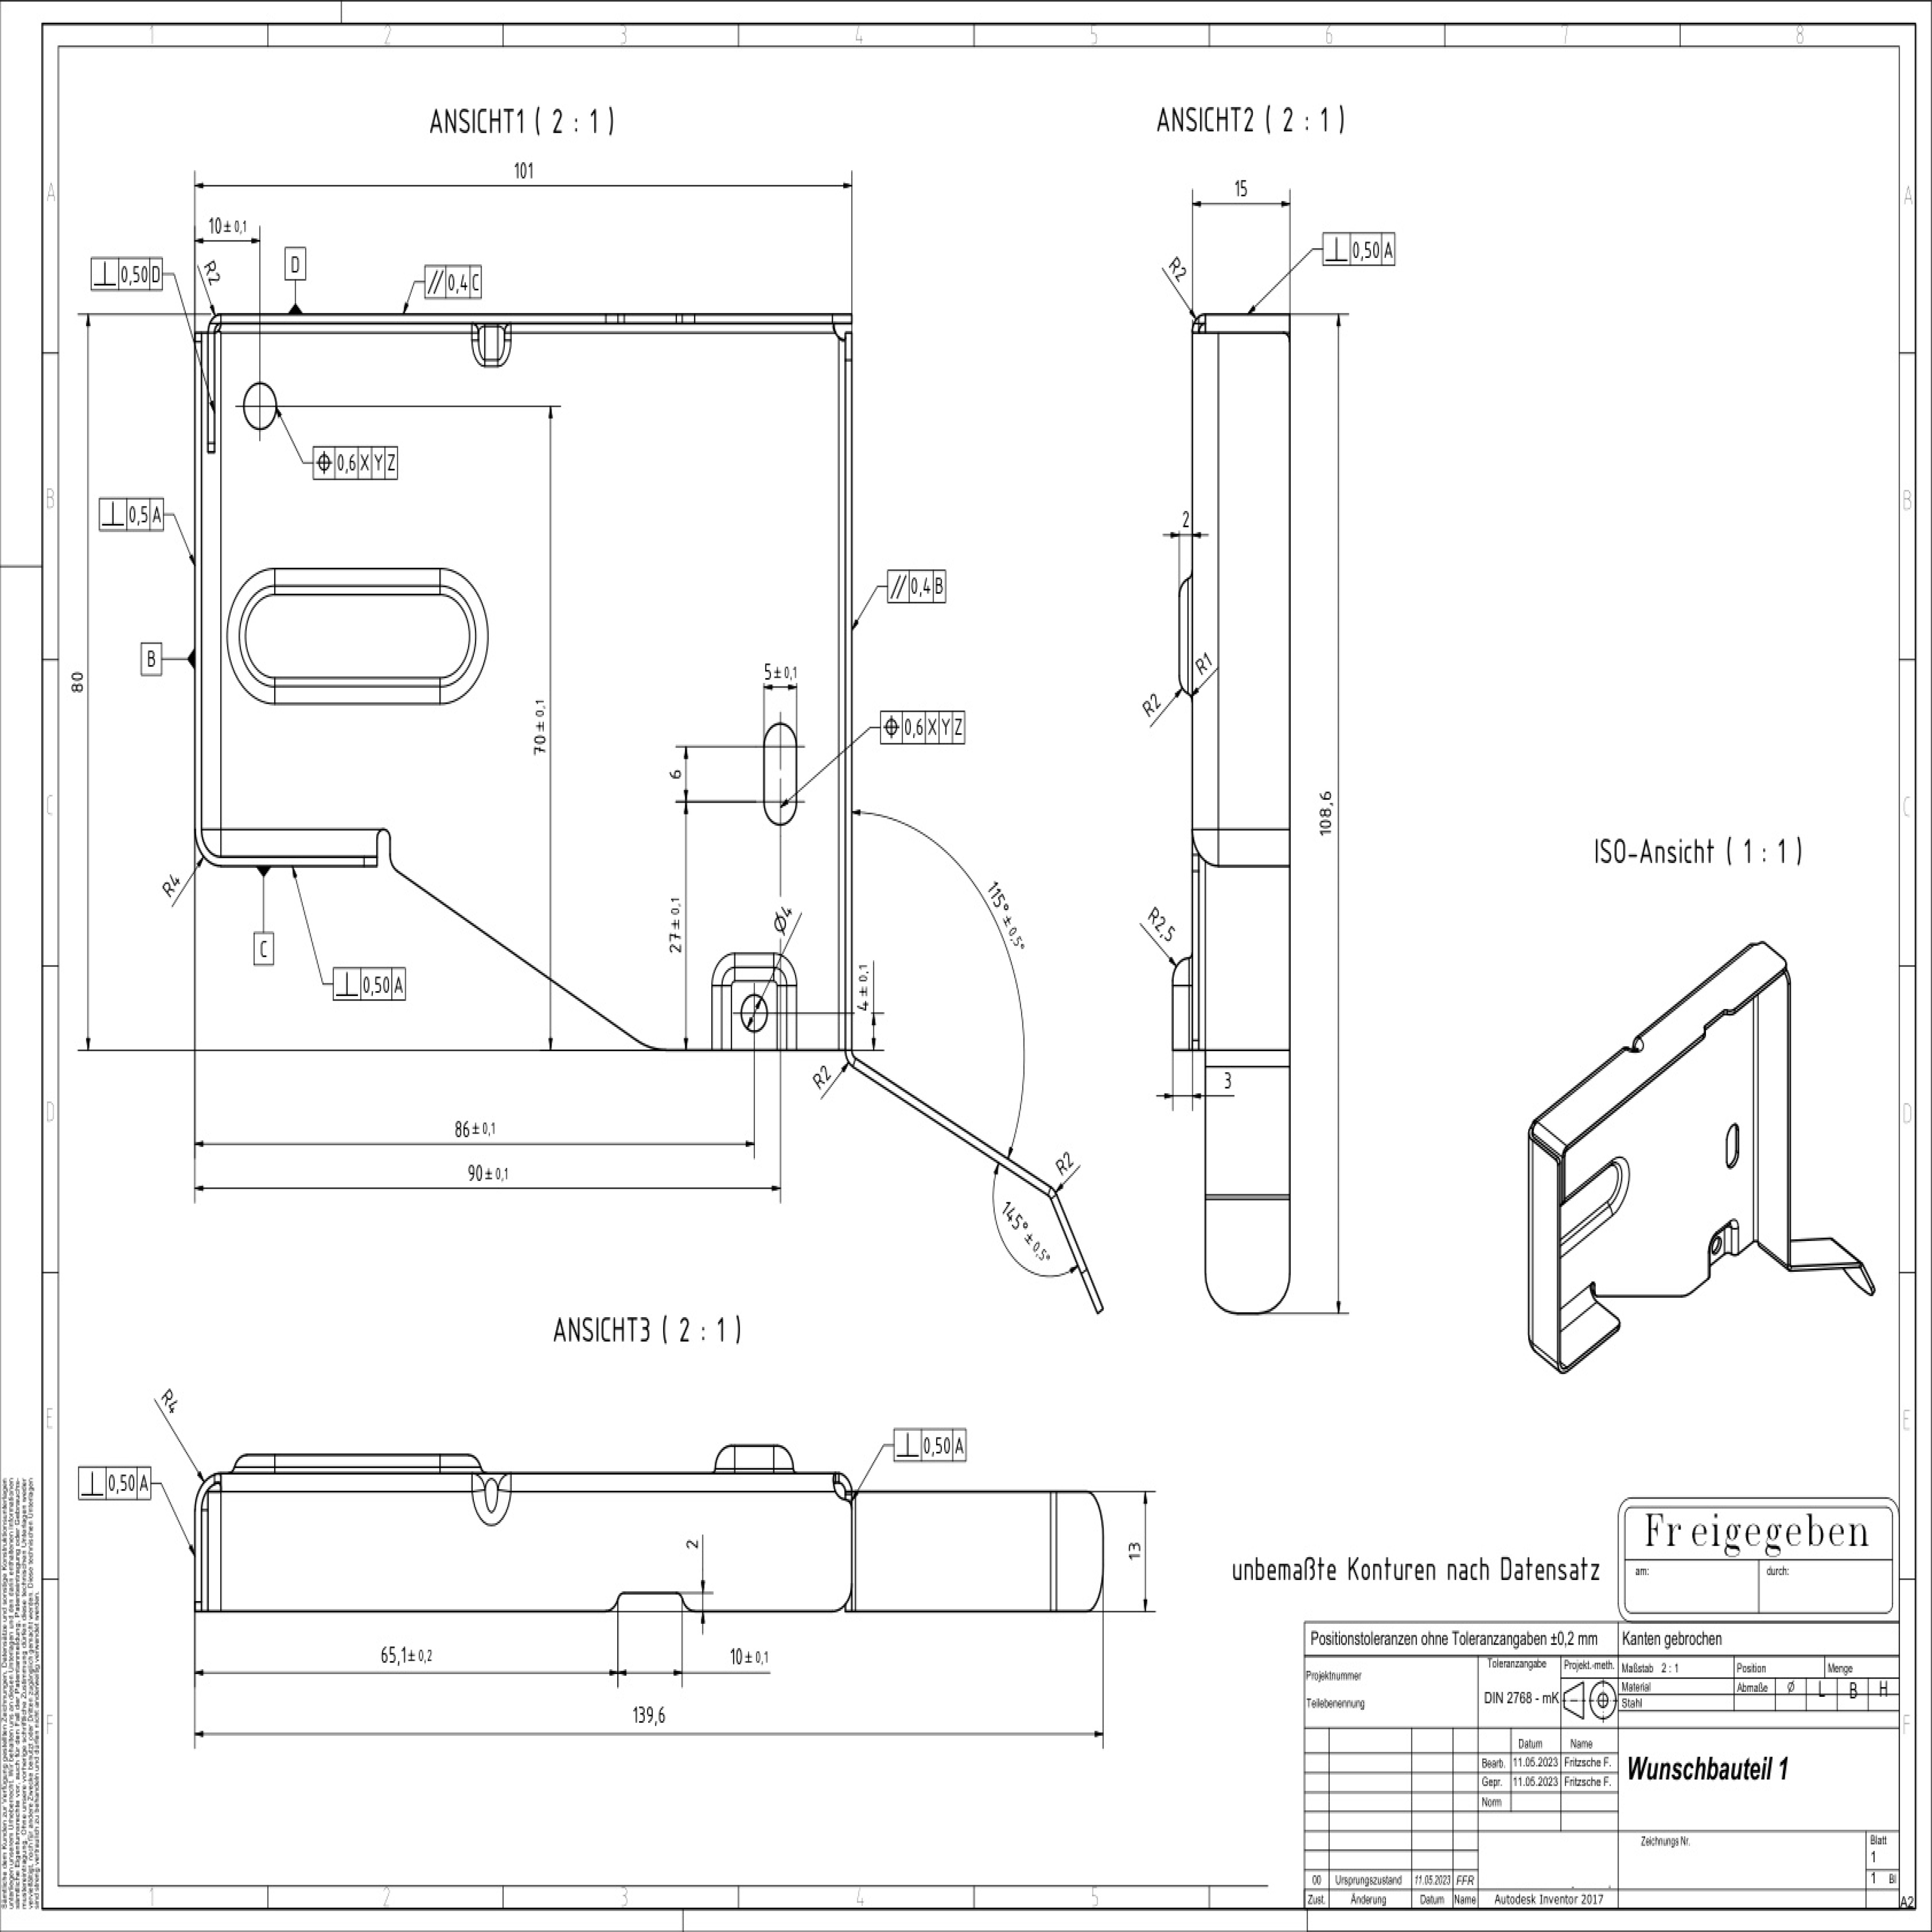BendingEdge: (517, 1476, 845, 1495), (221, 1478, 471, 1494), (1204, 1046, 1290, 1068), (1046, 1493, 1062, 1610), (848, 1498, 857, 1611), (1206, 1192, 1290, 1203), (1188, 314, 1210, 332)
Embossment: (225, 569, 491, 709), (703, 952, 804, 1059)
EmbossmentExternal: (225, 1447, 485, 1479), (1170, 571, 1205, 703), (1160, 948, 1197, 1059), (708, 1440, 801, 1479)
InnerContour: (754, 717, 807, 829), (232, 376, 289, 433), (739, 995, 769, 1035)
Notch: (606, 1586, 695, 1618)
Reinforcement: (458, 317, 522, 373), (468, 1467, 514, 1524)
